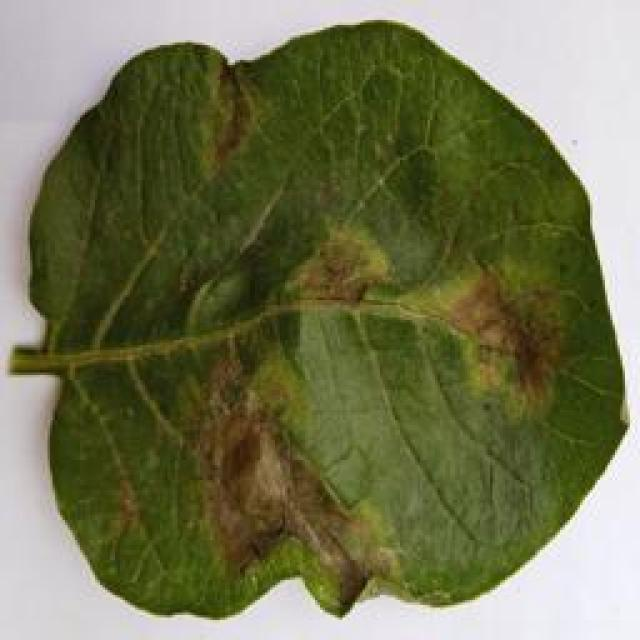Potato_Late_Blight: (19, 36, 640, 640)
